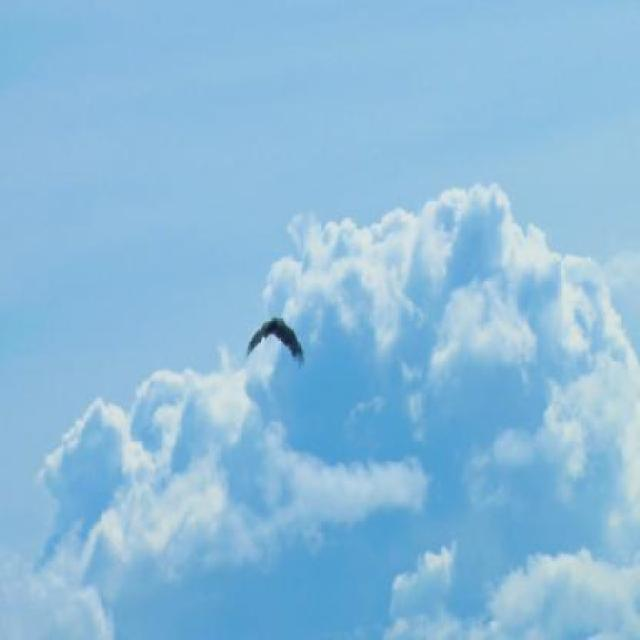bird: (248, 307, 308, 378)
